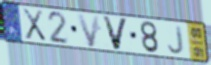2: (47, 11, 70, 46)
8: (139, 20, 160, 55)
J: (167, 25, 185, 56)
V: (101, 15, 130, 51), (75, 12, 102, 49)
X: (21, 7, 48, 43)
